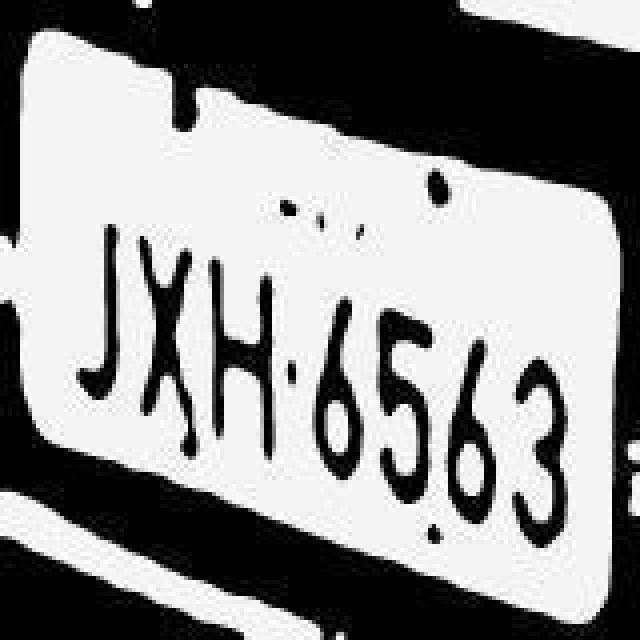3: (504, 298, 576, 558)
5: (372, 262, 436, 522)
6: (444, 286, 508, 530), (310, 262, 370, 522)
H: (208, 238, 280, 474)
J: (64, 166, 128, 426)
X: (136, 226, 208, 454)
